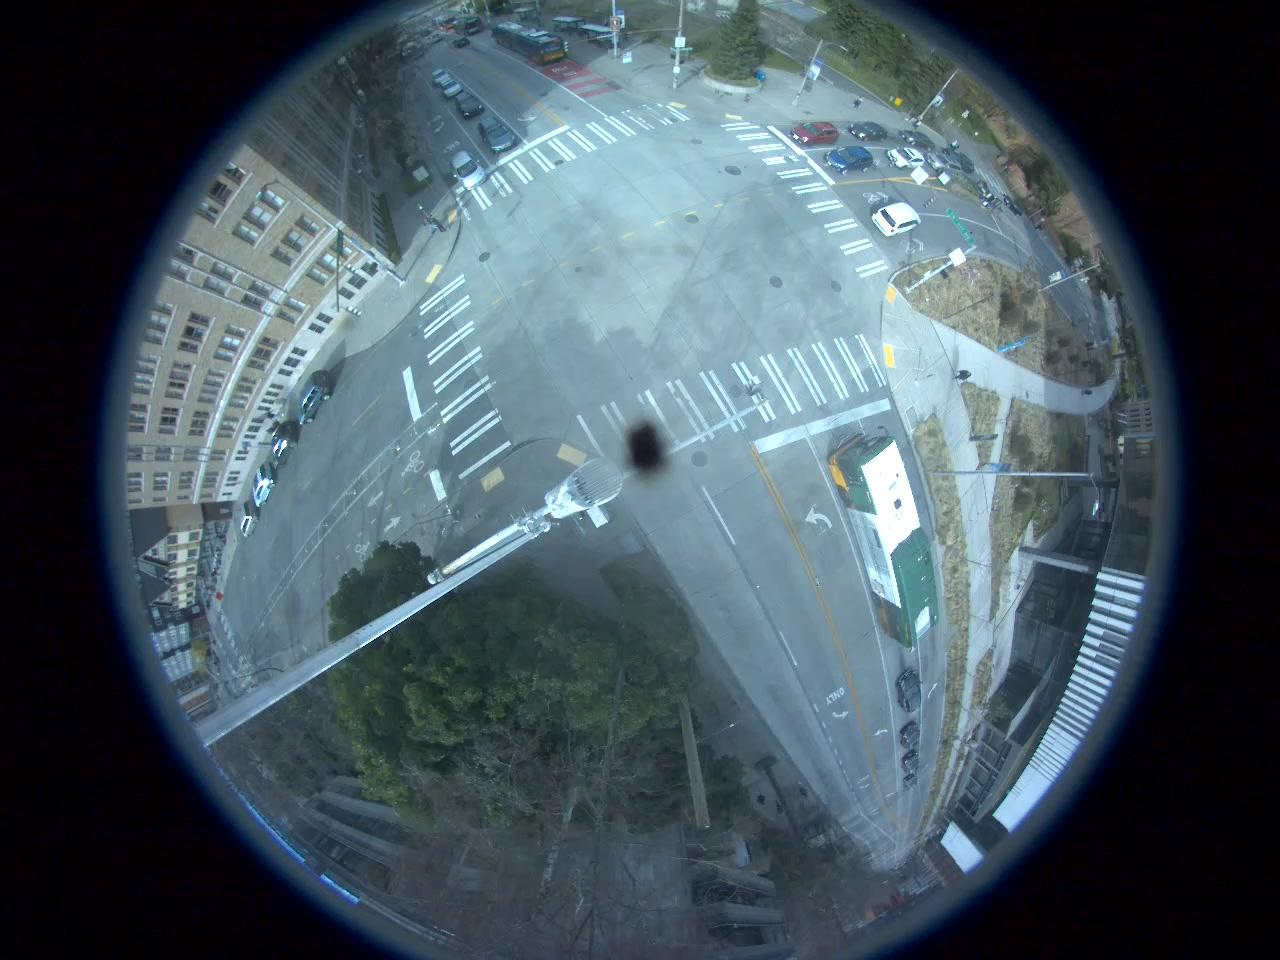bus: (830, 432, 939, 646), (489, 20, 568, 66)
car: (298, 372, 332, 424), (872, 200, 919, 236), (448, 152, 488, 188), (898, 667, 924, 714), (823, 149, 874, 171), (250, 461, 276, 504), (479, 118, 515, 148), (791, 121, 838, 143), (850, 117, 889, 143), (930, 150, 966, 178), (270, 422, 296, 460), (888, 146, 926, 170), (452, 92, 484, 120), (900, 126, 934, 148), (240, 503, 258, 539), (901, 720, 922, 746), (437, 78, 464, 98), (904, 748, 920, 772)
person: (952, 366, 975, 384), (428, 214, 447, 234), (418, 212, 432, 234)
